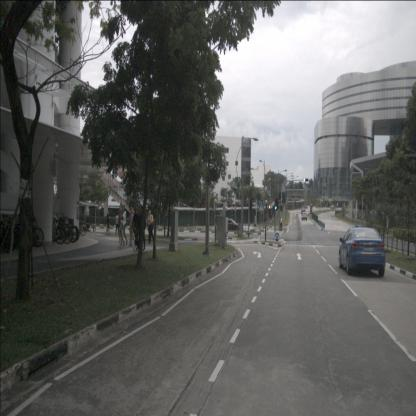human-pedestrian-adult: (136, 207, 146, 251), (131, 208, 141, 252), (128, 206, 136, 248), (120, 206, 128, 246), (147, 209, 155, 246), (115, 212, 119, 235), (107, 210, 110, 235), (280, 216, 283, 231), (280, 216, 282, 231)
vehicle-car: (338, 226, 386, 277), (219, 219, 242, 231), (301, 211, 307, 220)
